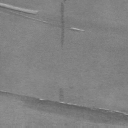finishing roll printing: (0, 91, 128, 116), (0, 2, 64, 28), (70, 28, 84, 32)
